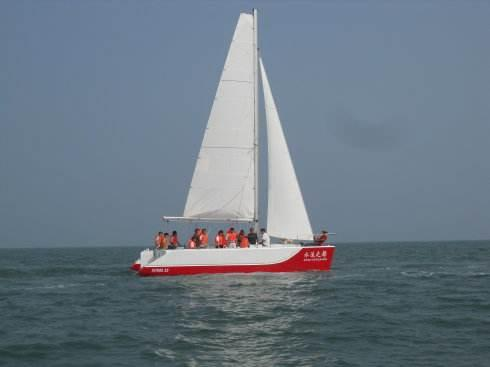fanchuan: (132, 11, 337, 276)
